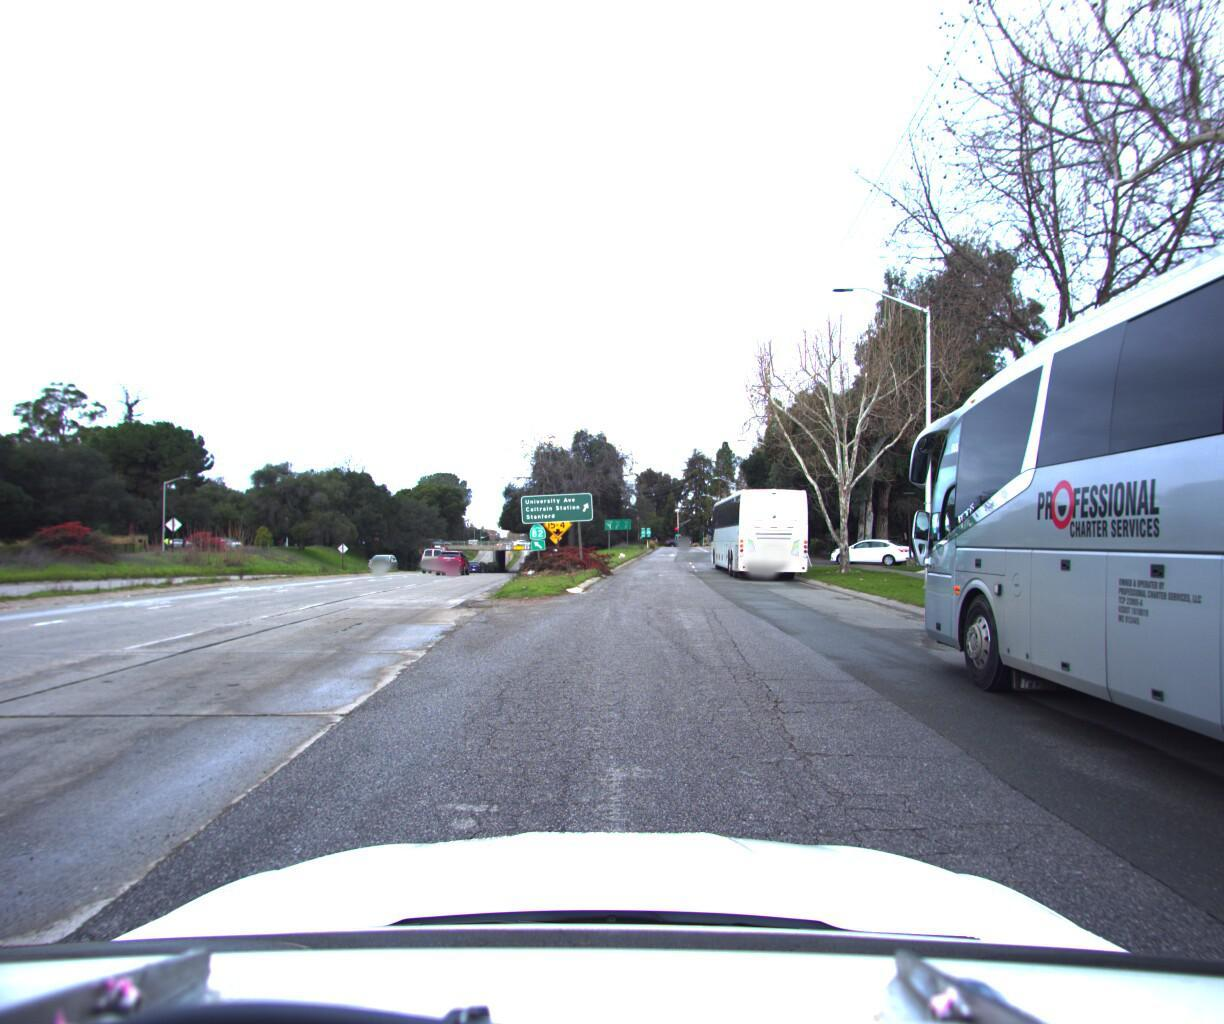bus: (707, 477, 814, 571)
car: (823, 529, 915, 558), (413, 538, 450, 568), (433, 542, 471, 569), (367, 548, 400, 568)
